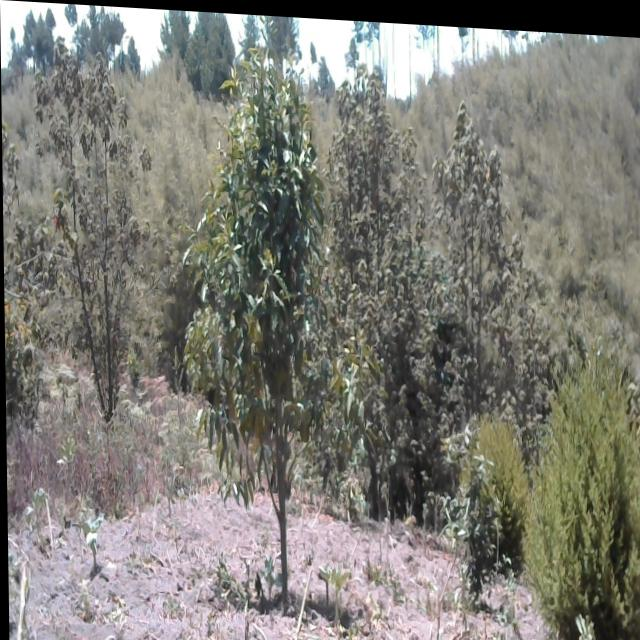Hass Avocado: (182, 25, 328, 640)
